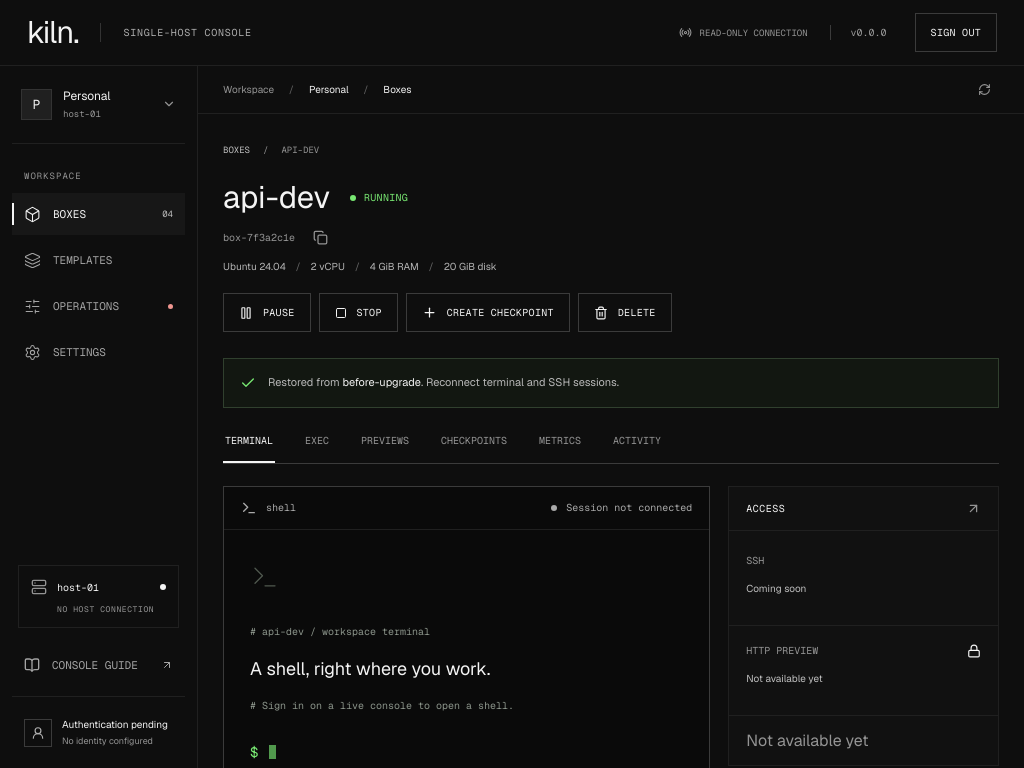
disables lifecycle confirmation when the host is offline
Click the button "Stop" at (358, 313), box [318,293,398,332]
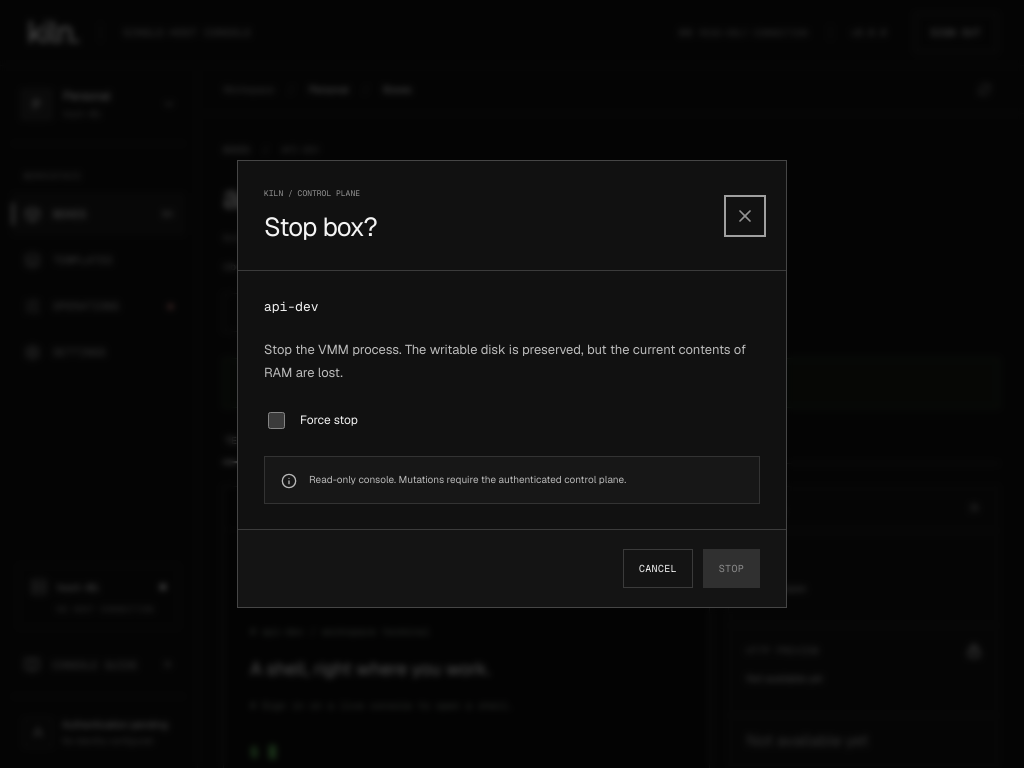
Expected: the button "Stop" is disabled, [703,549,760,588]
Expected: the text "Read-only console" is shown, [309,473,626,486]
